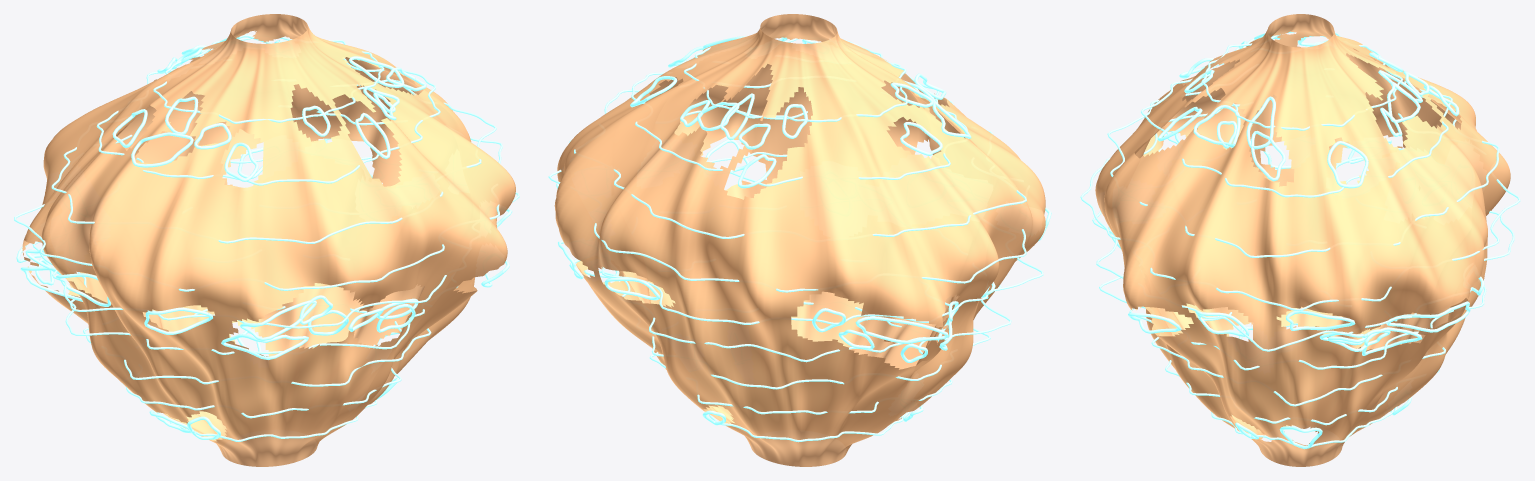
Rendered from voronoi-light-shell.glb.
3 views of the same model, side by side, from view 1: azimuth 30°, elevation 25°; view 2: azimuth 150°, elevation 25°; view 3: azimuth 270°, elevation 25° (orthographic).
Visible parts, largest first — view 1: Voronoi Light Shell, light_rib_band_07.008, light_rib_band_05.008, light_rib_band_06.008, light_rib_band_04.008, light_rib_band_08.008, light_rib_band_03.008, light_rib_band_02.008, light_rib_band_01.008, cellular_window_rim_35.002, cellular_window_rim_01.002, cellular_window_rim_09.002 (+2 smaller); view 2: Voronoi Light Shell, light_rib_band_04.008, light_rib_band_05.008, light_rib_band_06.008, light_rib_band_03.008, light_rib_band_07.008, light_rib_band_08.008, light_rib_band_01.008, cellular_window_rim_25.002, light_rib_band_02.008, light_rib_band_00.008; view 3: Voronoi Light Shell, light_rib_band_05.008, light_rib_band_07.008, light_rib_band_04.008, light_rib_band_06.008, light_rib_band_08.008, light_rib_band_03.008, light_rib_band_02.008, cellular_window_rim_39.002, light_rib_band_01.008, cellular_window_rim_05.002, cellular_window_rim_26.002 (+7 smaller).
Boxes of the visible parts, bbox=[...] form: Voronoi Light Shell: bbox=[22, 14, 515, 466]; light_rib_band_07.008: bbox=[96, 58, 440, 185]; light_rib_band_05.008: bbox=[14, 111, 502, 291]; light_rib_band_06.008: bbox=[51, 79, 496, 243]; light_rib_band_04.008: bbox=[32, 156, 519, 328]; light_rib_band_08.008: bbox=[153, 37, 384, 123]; light_rib_band_03.008: bbox=[65, 272, 458, 354]; light_rib_band_02.008: bbox=[83, 327, 431, 386]; light_rib_band_01.008: bbox=[123, 306, 401, 418]; cellular_window_rim_35.002: bbox=[221, 334, 308, 359]; cellular_window_rim_01.002: bbox=[240, 300, 316, 340]; cellular_window_rim_09.002: bbox=[144, 307, 212, 334]; Voronoi Light Shell: bbox=[554, 14, 1045, 466]; light_rib_band_04.008: bbox=[601, 152, 1043, 324]; light_rib_band_05.008: bbox=[548, 107, 1026, 292]; light_rib_band_06.008: bbox=[574, 83, 1026, 238]; light_rib_band_03.008: bbox=[598, 270, 1011, 362]; light_rib_band_07.008: bbox=[631, 62, 968, 186]; light_rib_band_08.008: bbox=[684, 38, 907, 122]; light_rib_band_01.008: bbox=[649, 302, 952, 414]; cellular_window_rim_25.002: bbox=[855, 316, 948, 343]; light_rib_band_02.008: bbox=[651, 302, 990, 389]; light_rib_band_00.008: bbox=[709, 413, 906, 442]; Voronoi Light Shell: bbox=[1095, 14, 1510, 466]; light_rib_band_05.008: bbox=[1080, 104, 1520, 310]; light_rib_band_07.008: bbox=[1141, 41, 1452, 197]; light_rib_band_04.008: bbox=[1092, 147, 1514, 351]; light_rib_band_06.008: bbox=[1107, 91, 1499, 257]; light_rib_band_08.008: bbox=[1201, 32, 1402, 130]; light_rib_band_03.008: bbox=[1099, 274, 1486, 370]; light_rib_band_02.008: bbox=[1129, 308, 1445, 406]; cellular_window_rim_39.002: bbox=[1386, 301, 1470, 332]; light_rib_band_01.008: bbox=[1165, 312, 1439, 425]; cellular_window_rim_05.002: bbox=[1286, 310, 1355, 330]; cellular_window_rim_26.002: bbox=[1327, 141, 1368, 188].
Size of the model in its own units: 172 by 150 by 144.
